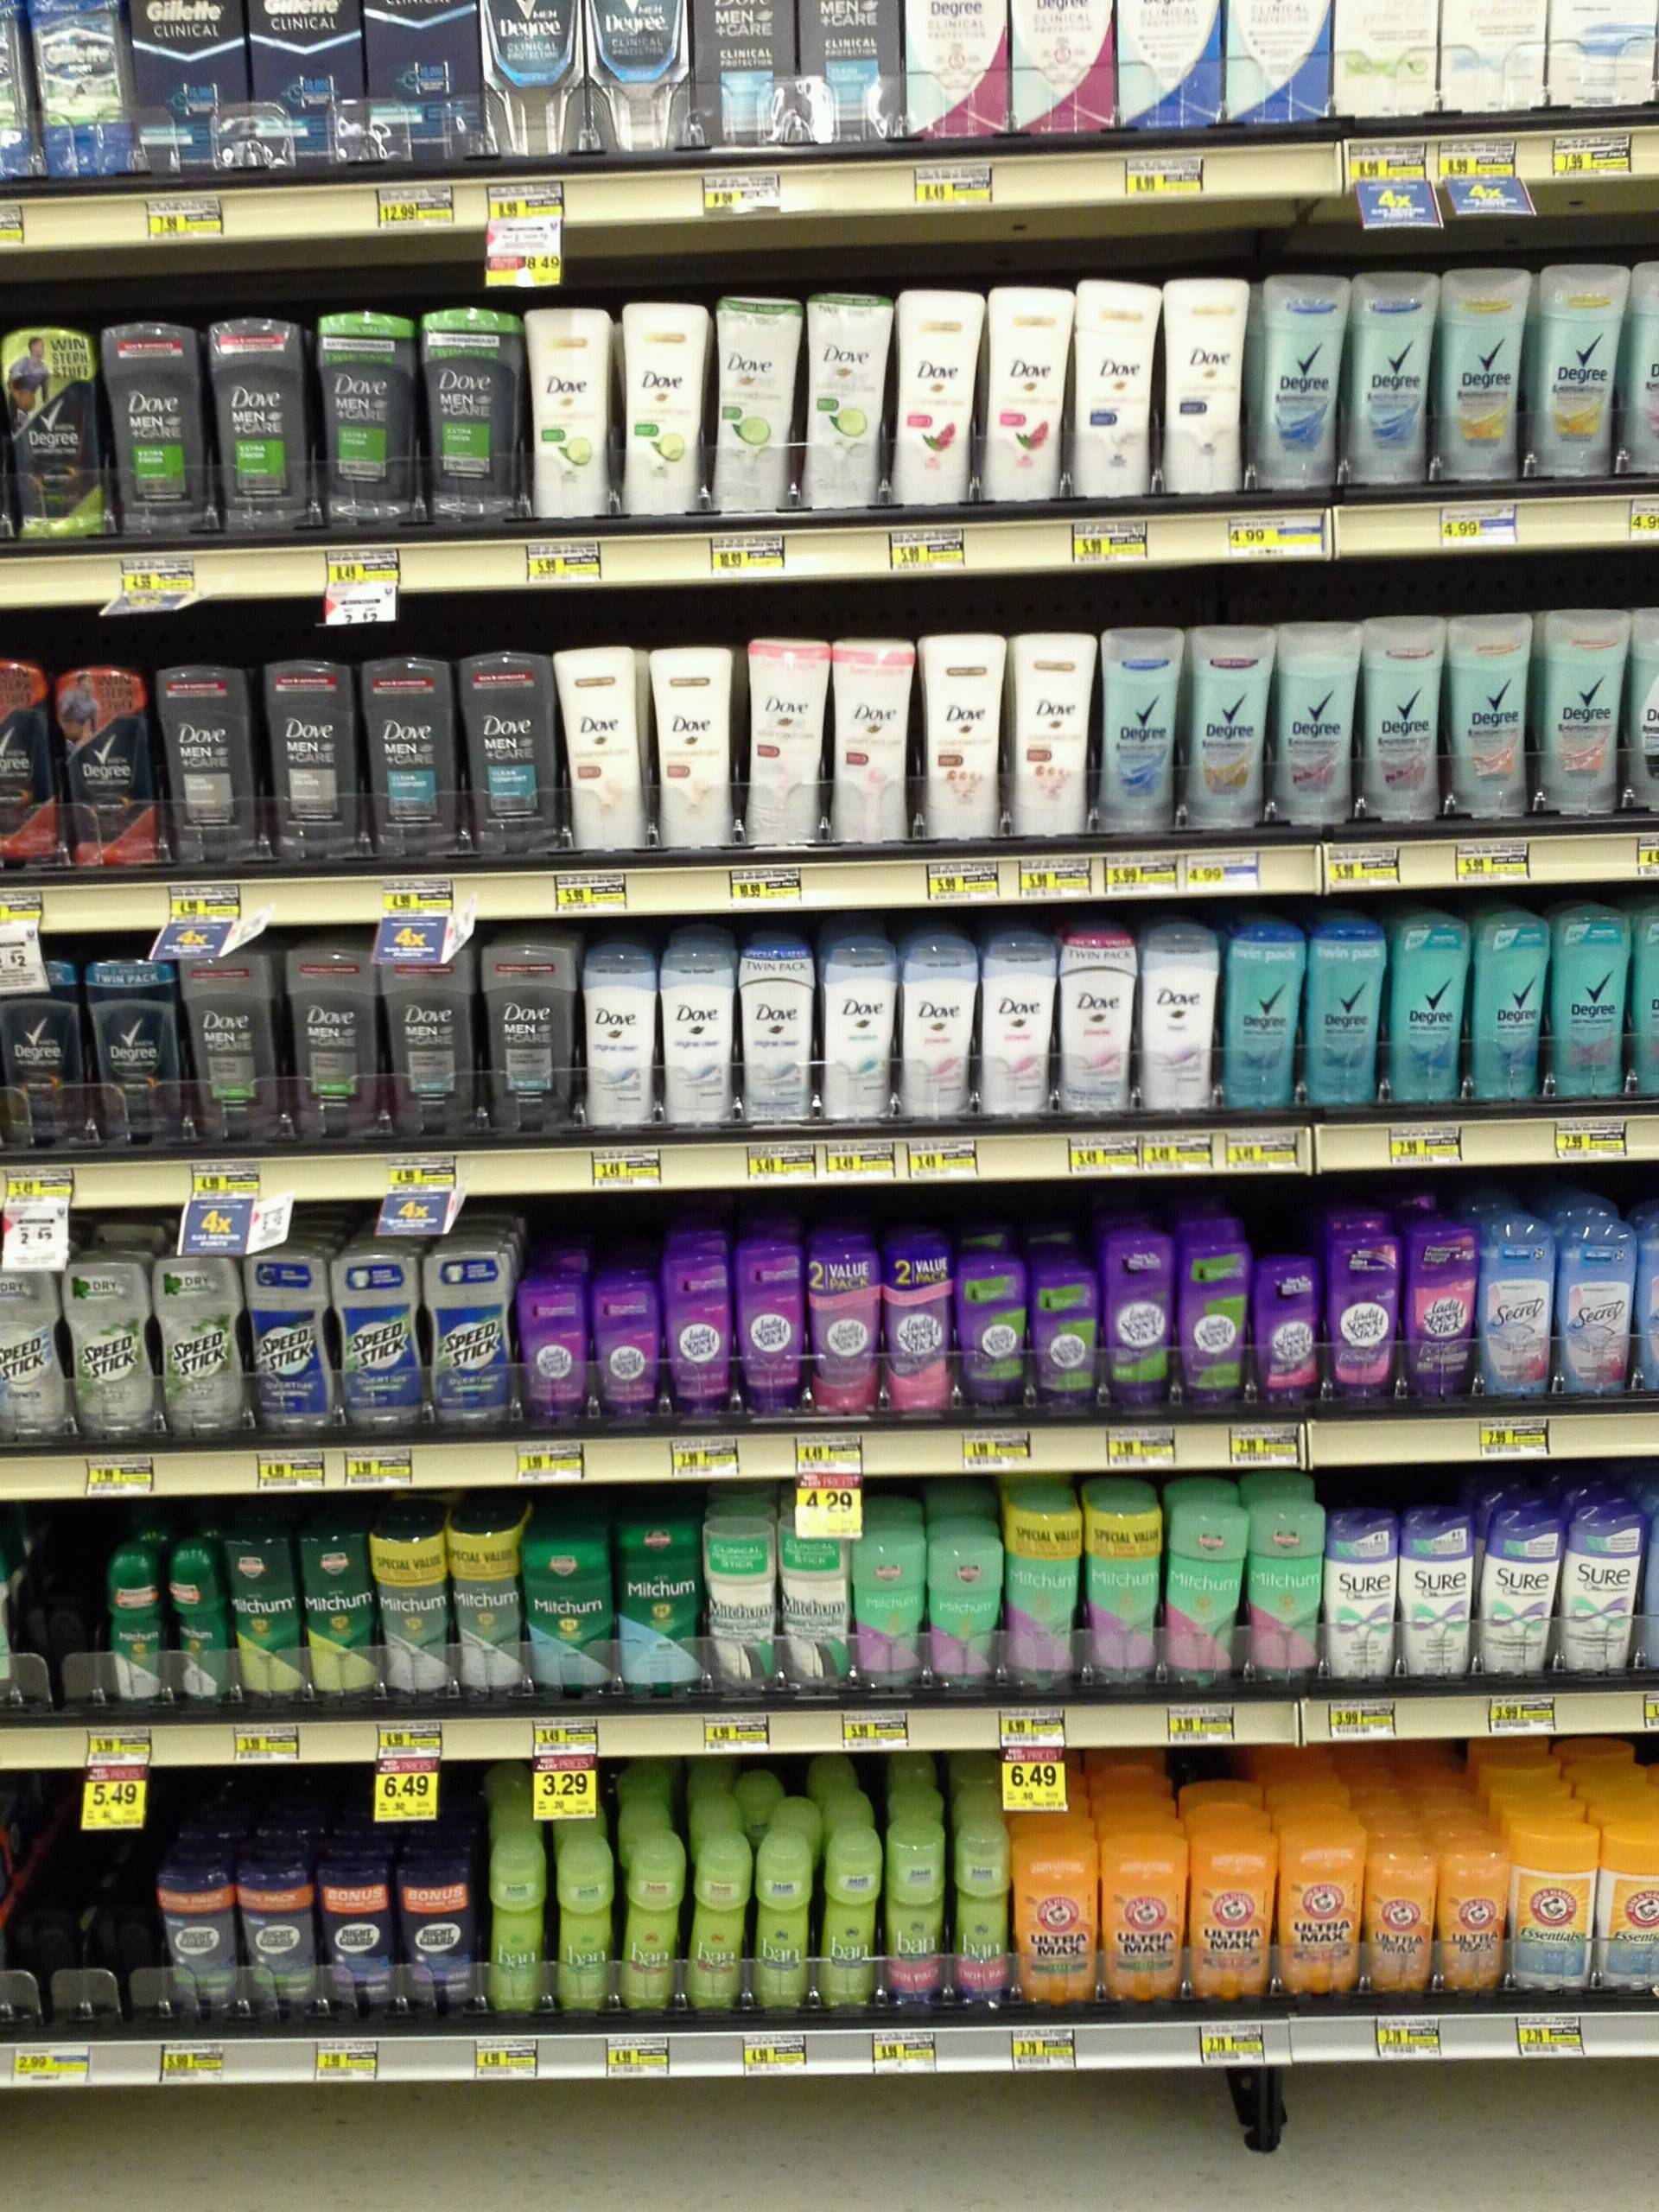Out-of-stock: (17, 1500, 105, 1709)
